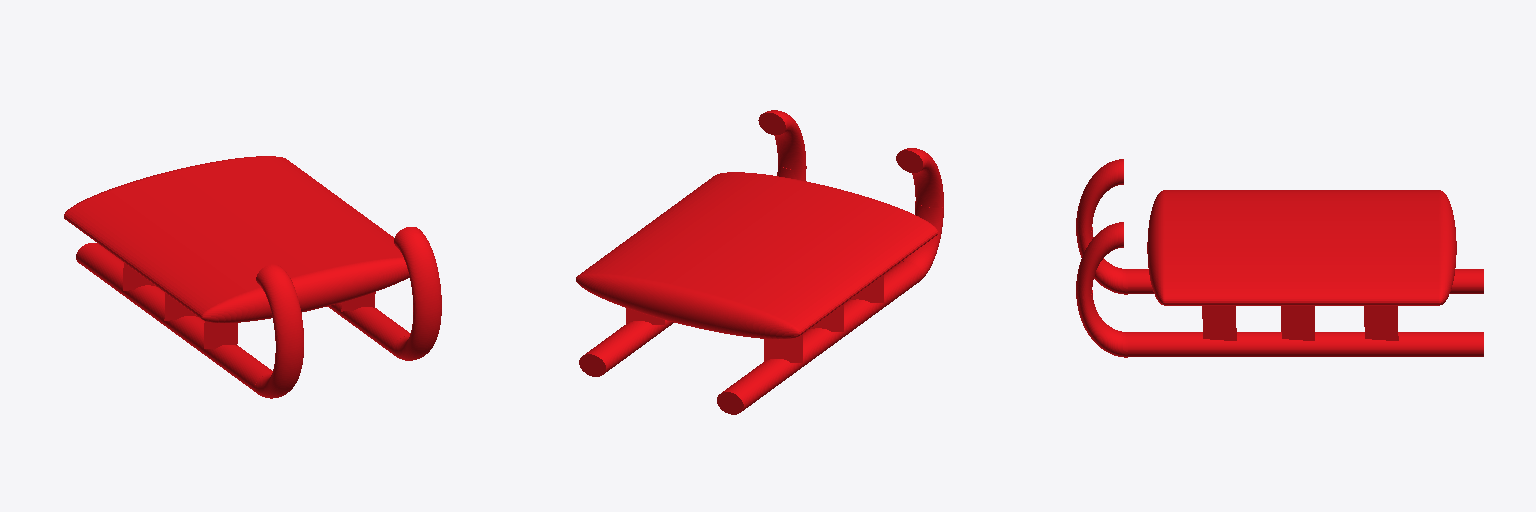
The model's file is newcar.obj.
3 renders of one model, left to right at view 1: azimuth 30°, elevation 25°; view 2: azimuth 150°, elevation 25°; view 3: azimuth 270°, elevation 25°, orthographic.
Visible parts, largest first — view 1: mesh_id74, mesh_id97, mesh_id94, mesh_id156, mesh_id159, mesh_id157, mesh_id95, mesh_id112; view 2: mesh_id74, mesh_id97, mesh_id159, mesh_id94, mesh_id156, mesh_id95, mesh_id125; view 3: mesh_id74, mesh_id159, mesh_id156, mesh_id94, mesh_id157, mesh_id97, mesh_id151, mesh_id152, mesh_id153, mesh_id95.
Part boxes in pixels (bbox=[...]): mesh_id74: bbox=[64, 156, 409, 322]; mesh_id97: bbox=[76, 243, 272, 391]; mesh_id94: bbox=[256, 264, 303, 351]; mesh_id156: bbox=[394, 227, 441, 313]; mesh_id159: bbox=[327, 303, 410, 355]; mesh_id157: bbox=[393, 309, 441, 360]; mesh_id95: bbox=[255, 347, 303, 398]; mesh_id112: bbox=[204, 321, 237, 348]; mesh_id74: bbox=[576, 172, 937, 339]; mesh_id97: bbox=[717, 261, 921, 414]; mesh_id159: bbox=[579, 320, 673, 376]; mesh_id94: bbox=[896, 148, 943, 207]; mesh_id156: bbox=[758, 110, 806, 169]; mesh_id95: bbox=[901, 201, 943, 279]; mesh_id125: bbox=[764, 334, 802, 362]; mesh_id74: bbox=[1147, 190, 1456, 305]; mesh_id159: bbox=[1127, 332, 1483, 356]; mesh_id156: bbox=[1076, 222, 1123, 298]; mesh_id94: bbox=[1076, 159, 1123, 235]; mesh_id157: bbox=[1076, 290, 1127, 357]; mesh_id97: bbox=[1127, 269, 1483, 293]; mesh_id151: bbox=[1202, 306, 1236, 340]; mesh_id152: bbox=[1364, 306, 1398, 340]; mesh_id153: bbox=[1281, 306, 1314, 340]; mesh_id95: bbox=[1076, 227, 1127, 294].
Size of the model in its own units: 0.9173 by 0.5298 by 1.44.